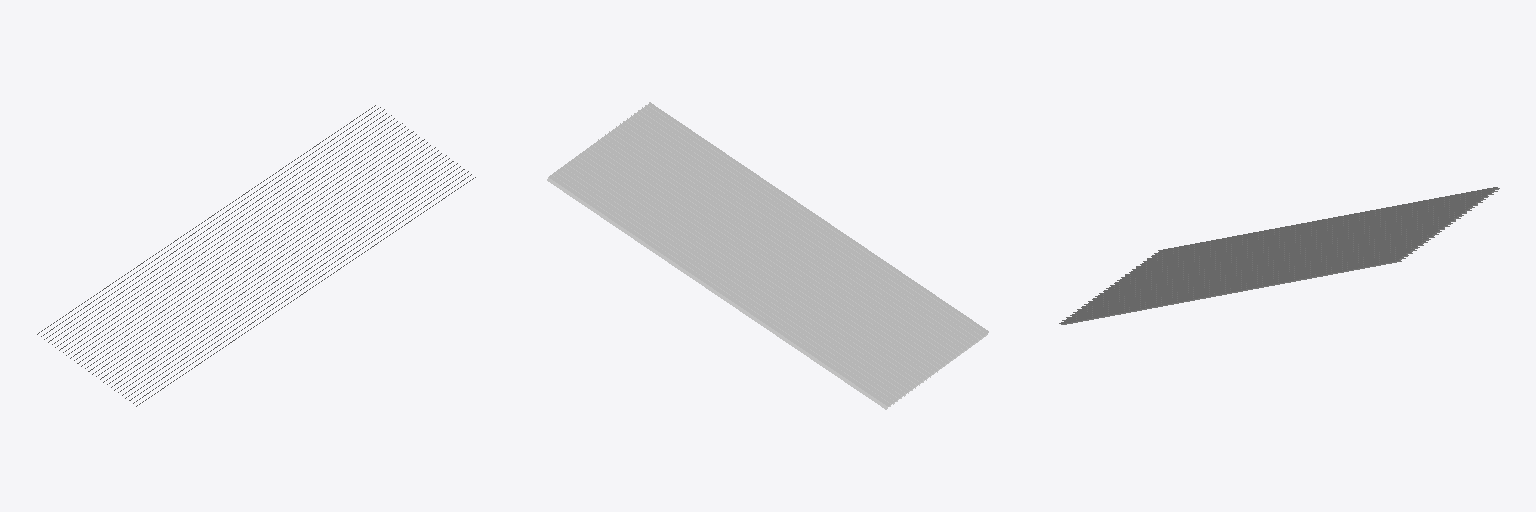
File: ref_room_shading.obj
3 views of the same model, side by side, from view 1: azimuth 30°, elevation 25°; view 2: azimuth 150°, elevation 25°; view 3: azimuth 330°, elevation 25° (orthographic).
Visible parts, largest first — view 1: Geometry Shading ShadingLowered; view 2: Geometry Shading ShadingLowered; view 3: Geometry Shading ShadingLowered.
Part boxes in pixels (bbox=[...]): Geometry Shading ShadingLowered: bbox=[37, 105, 475, 406]; Geometry Shading ShadingLowered: bbox=[547, 102, 988, 409]; Geometry Shading ShadingLowered: bbox=[1059, 187, 1499, 324].
Size of the model in its own units: 2.69 by 1.14 by 1.39.